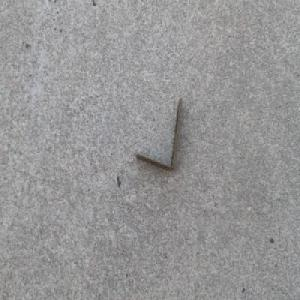MetalPart: (133, 97, 183, 174)
